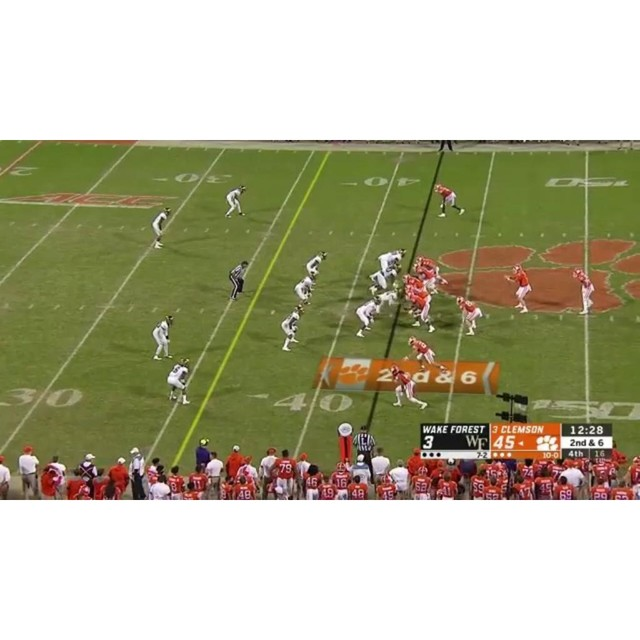american-football-player: (386, 365, 427, 409), (405, 287, 436, 333), (507, 263, 532, 314), (354, 296, 382, 338), (280, 305, 304, 352), (456, 296, 484, 336), (407, 335, 438, 371), (151, 314, 175, 360), (167, 358, 191, 404), (434, 183, 465, 218), (573, 267, 595, 316), (368, 264, 400, 296), (417, 254, 449, 285), (151, 207, 171, 249), (415, 262, 442, 293), (294, 272, 317, 307), (376, 248, 406, 273), (225, 184, 247, 218), (306, 251, 328, 278), (401, 273, 428, 293)
referee: (228, 260, 249, 300)
